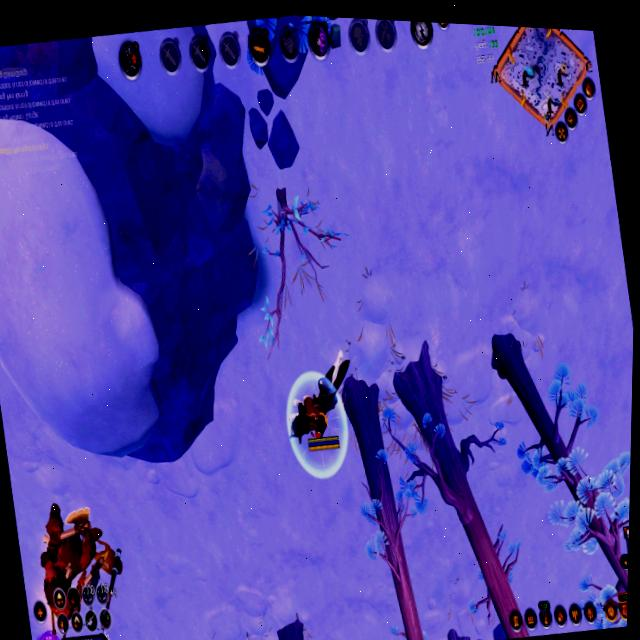ore: (22, 473, 124, 640)
red: (274, 341, 367, 466)
